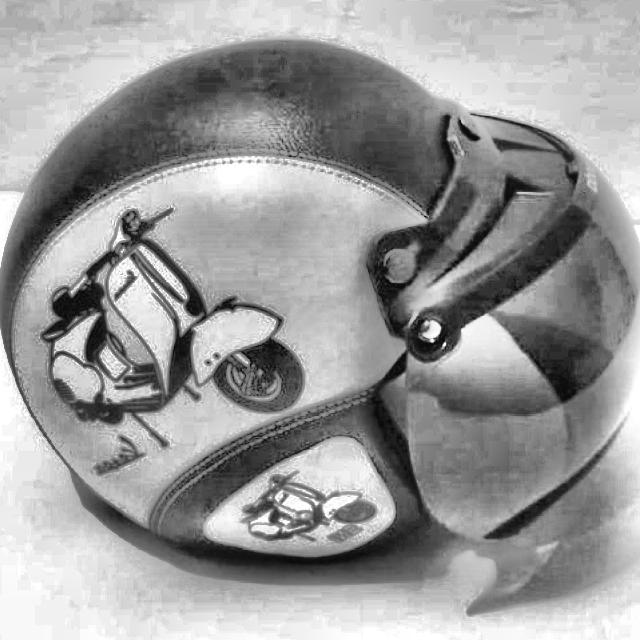Helmet: (0, 34, 640, 584)
